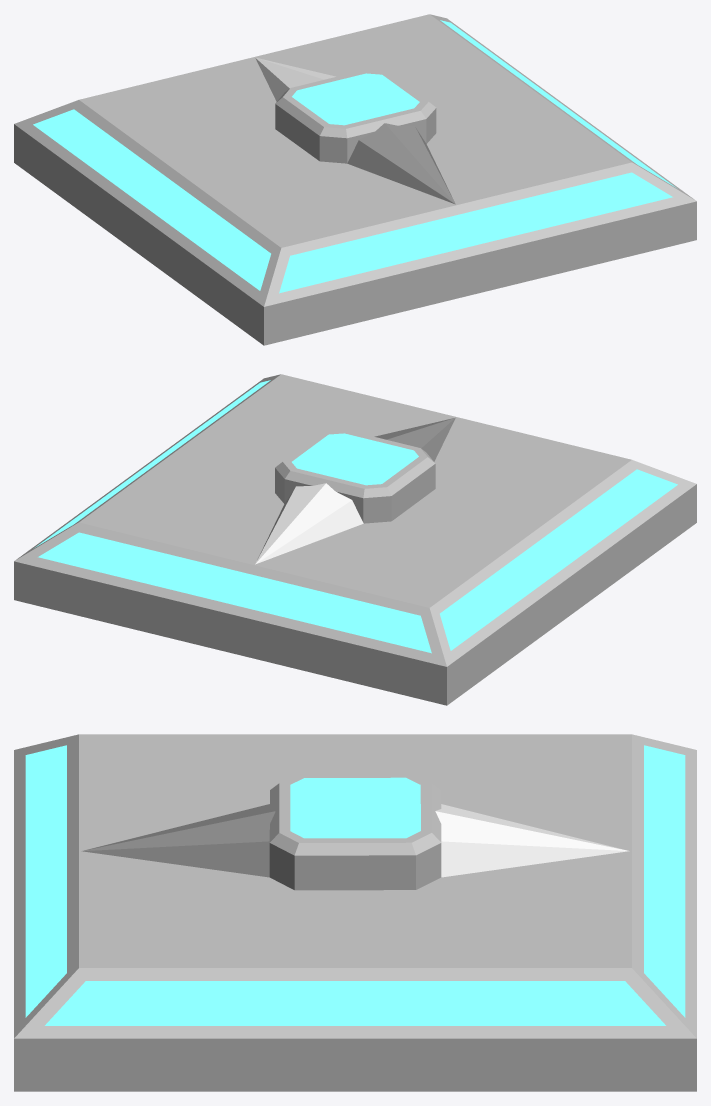
Rendered from direction_controller.fbx.
The picture shows the model from 3 angles, top to bottom: view 1: azimuth 30°, elevation 25°; view 2: azimuth 150°, elevation 25°; view 3: azimuth 270°, elevation 25°; orthographic projection. The views are drawn at different scales.
Parts seen in each view (by area): view 1: Cone.001; view 2: Cone.001; view 3: Cone.001.
Boxes of the visible parts, x1=… form: Cone.001: x1=14, y1=14, x2=696, y2=345; Cone.001: x1=14, y1=374, x2=696, y2=705; Cone.001: x1=14, y1=734, x2=696, y2=1091.
Size of the model in its own units: 187 by 42.05 by 187.
